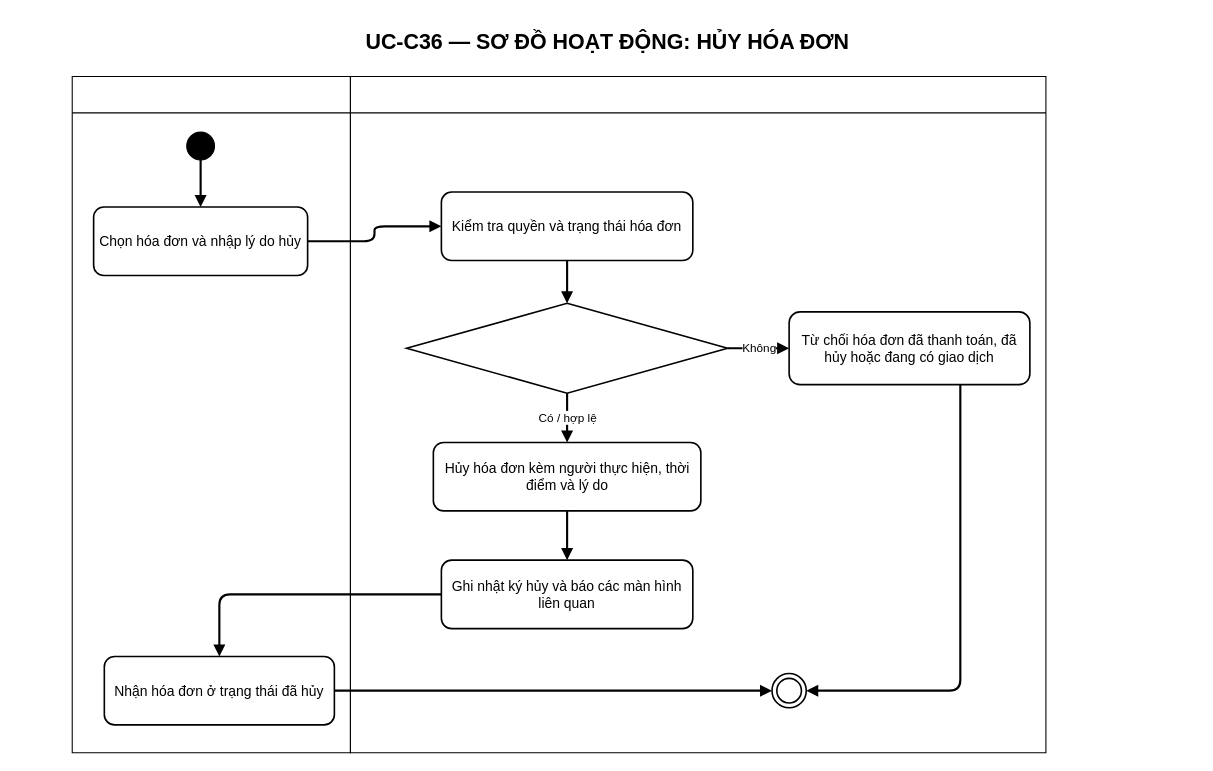
Some shapes in this 1213 by 771 pixel diagram are drawn without their labels. The box of each missing label's shape, as (x1, y1, x2, y2) in pixels:
Hóa đơn được phép hủy?: (405, 302, 728, 394)
Hệ thống: (349, 75, 1046, 753)
Tác nhân: Thu ngân: (71, 75, 350, 753)
